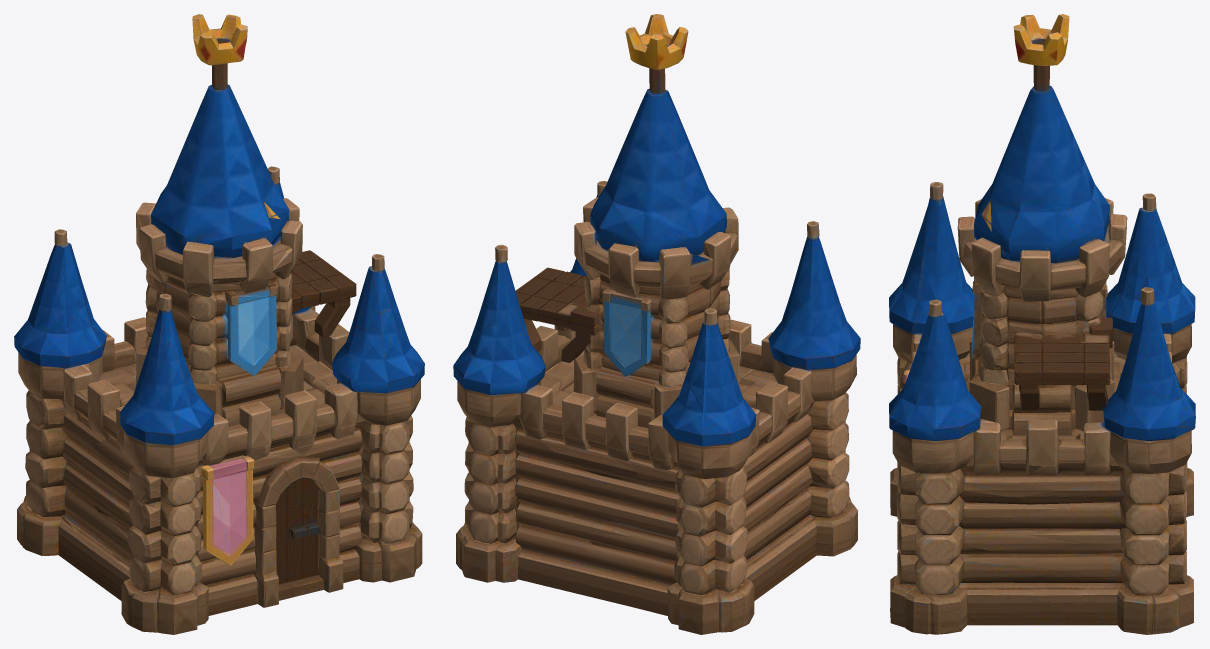
File: keep_ai.glb
3 views of the same model, side by side, from view 1: azimuth 30°, elevation 25°; view 2: azimuth 150°, elevation 25°; view 3: azimuth 270°, elevation 25° (orthographic). The views are drawn at different scales.
Parts seen in each view (by area): view 1: output_unwrapped; view 2: output_unwrapped; view 3: output_unwrapped.
Part boxes in pixels (left/top/right/bottom): output_unwrapped: left=14, top=14, right=424, bottom=634; output_unwrapped: left=453, top=14, right=860, bottom=634; output_unwrapped: left=889, top=14, right=1195, bottom=634.
Bounding box in the file's own units: 6.02 × 10.5 × 5.38.
1 material, 1 textured.
